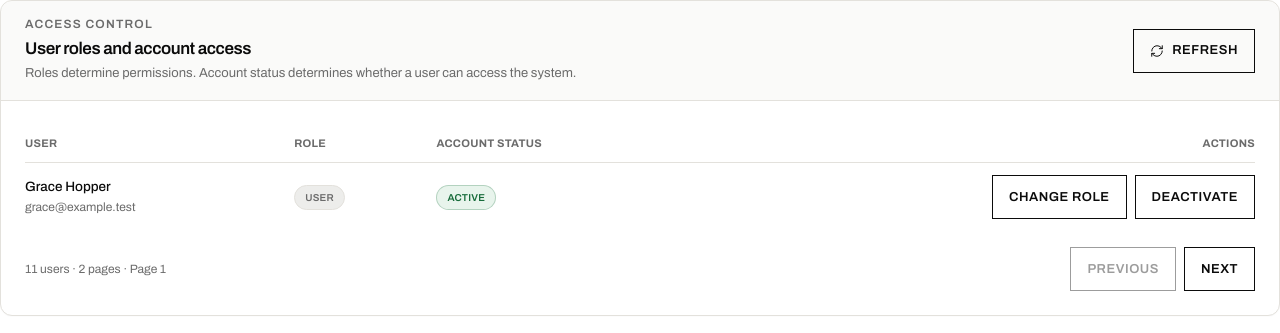
Test: UserRolesManagement › requests 10 users at a time and advances pages server-side
Expected: the text "Grace Hopper" is shown, [25,179,111,194]
Expected: the text "11 users · 2 pages · Page 1" is shown, [25,260,166,278]
What coordinates should you click on to do the following:
click the button "Next"
I would click on:
 (1220, 269)
Its box is [1184,247,1255,291].
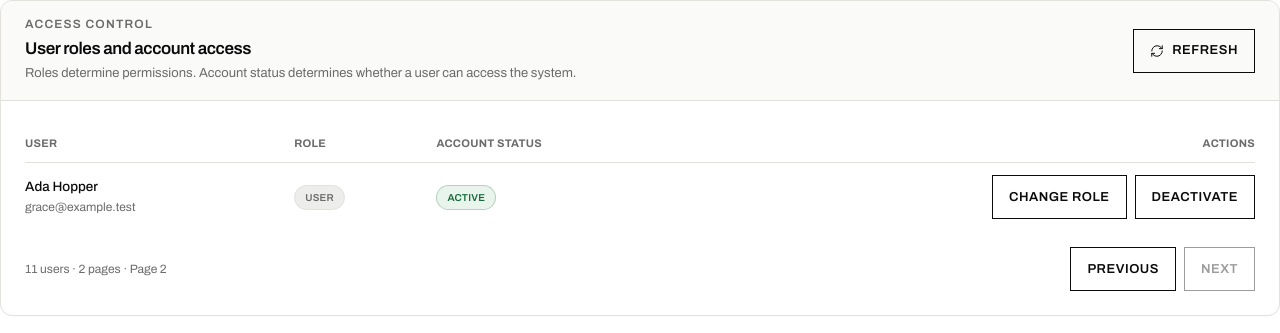
Expected: the text "Ada Hopper" is shown, [25,179,98,194]
